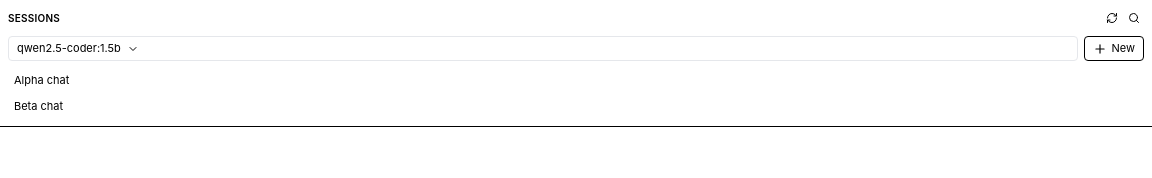
Scenario: ChatSessionList › filters the visible session list by title once the filter icon is toggled on
Click the button named "Filter sessions" at (1134, 18), box [1124,8,1144,28]
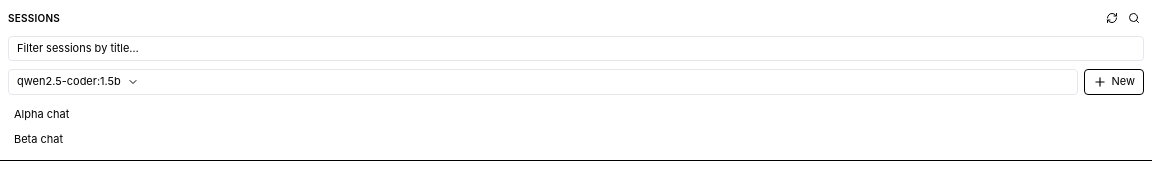
Type "Alpha" into the field with placeholder "Filter sessions by title…" at (576, 49), box [8,36,1144,61]
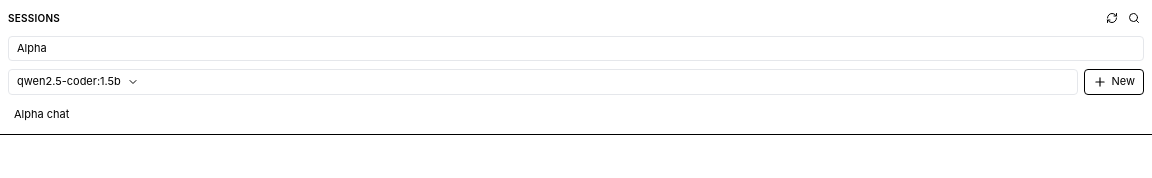
Expected: the button "Alpha chat" is shown, [14,107,1138,122]
Expected: the button "Beta chat" is gone
